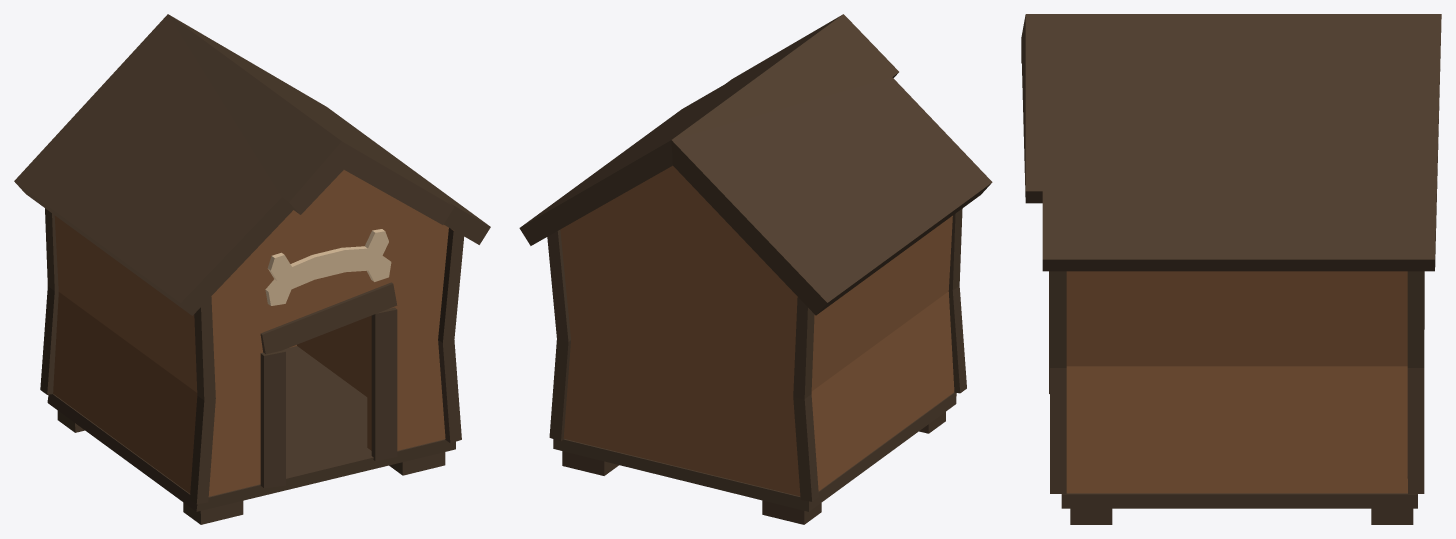
The model's file is props_shed-dog.fbx.
3 renders of one model, left to right at view 1: azimuth 30°, elevation 25°; view 2: azimuth 150°, elevation 25°; view 3: azimuth 270°, elevation 25°, orthographic. The views are drawn at different scales.
Parts seen in each view (by area): view 1: props_shed_dog; view 2: props_shed_dog; view 3: props_shed_dog.
Part boxes in pixels (x1,y1,x2,y2): props_shed_dog: (14, 14, 490, 524); props_shed_dog: (519, 14, 992, 524); props_shed_dog: (1021, 14, 1441, 524).
Size of the model in its own units: 178 by 200 by 173.
